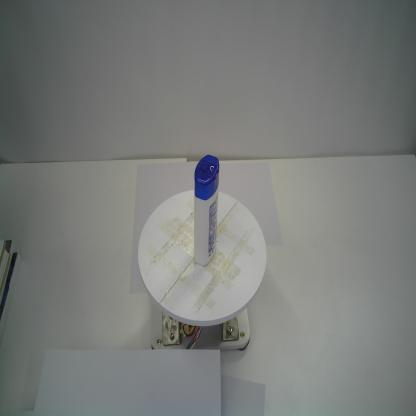Personal Hygiene: (193, 154, 220, 266)
